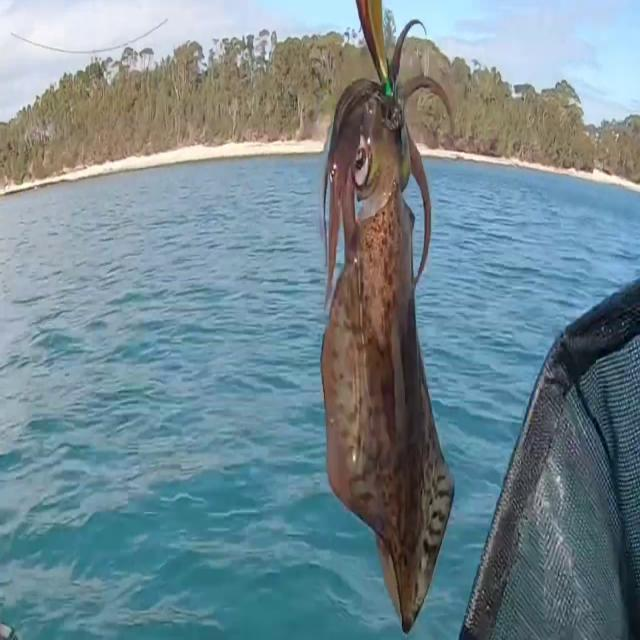SQUID: (292, 0, 478, 640)
